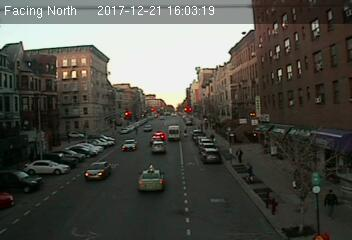car: (137, 165, 165, 192), (84, 161, 111, 180), (202, 148, 221, 163), (150, 140, 166, 154), (122, 139, 138, 151)
pedestrian: (324, 188, 338, 219), (236, 148, 244, 165)
truck: (167, 126, 180, 141)
